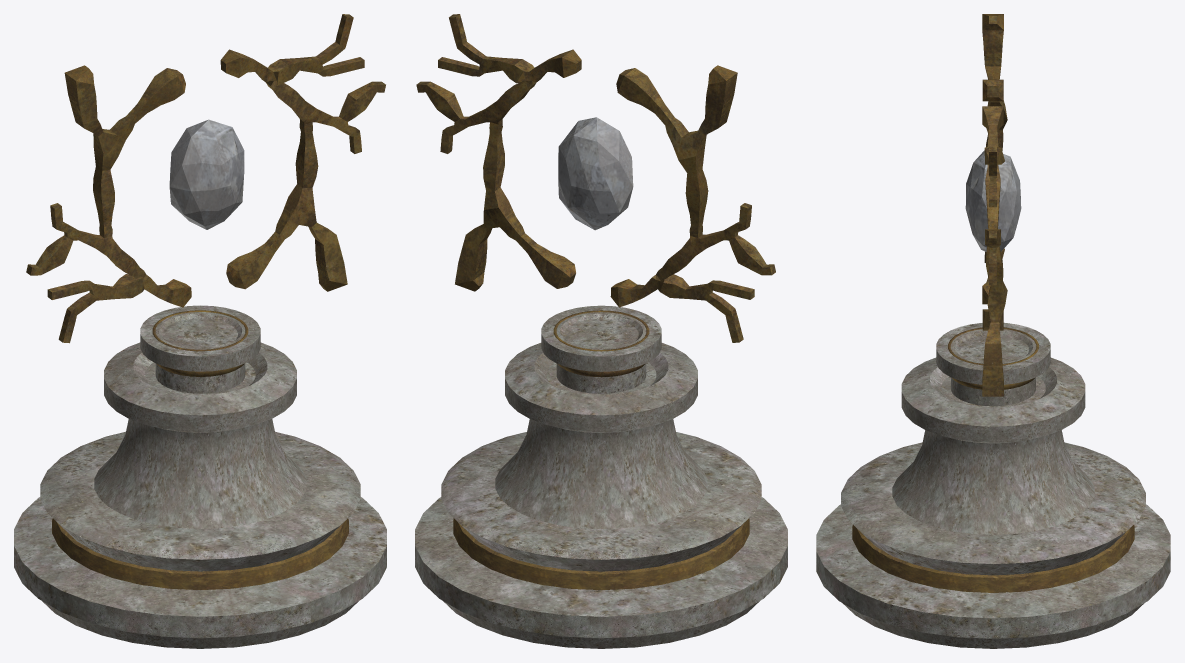
3 renders of one model, left to right at view 1: azimuth 30°, elevation 25°; view 2: azimuth 150°, elevation 25°; view 3: azimuth 270°, elevation 25°, orthographic. The views are drawn at different scales.
Visible parts, largest first — view 1: mg_12_object_2; view 2: mg_12_object_2; view 3: mg_12_object_2.
Boxes of the visible parts, box(x1,y1,x2,y2) form: mg_12_object_2: box(14, 14, 386, 648); mg_12_object_2: box(415, 14, 787, 648); mg_12_object_2: box(816, 14, 1170, 648).
Size of the model in its own units: 129 by 186 by 117.
